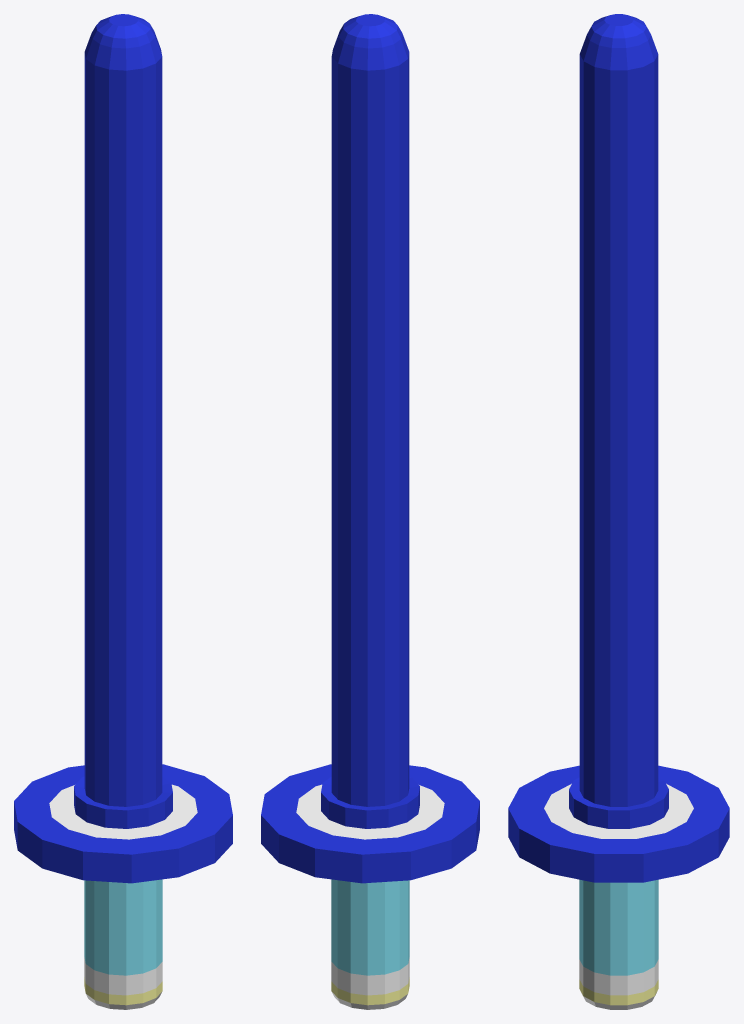
The model's file is wii_sword.glb.
3 views of the same model, side by side, from view 1: azimuth 30°, elevation 25°; view 2: azimuth 150°, elevation 25°; view 3: azimuth 270°, elevation 25° (orthographic).
Parts seen in each view (by area): view 1: Cylinder; view 2: Cylinder; view 3: Cylinder.
Boxes of the visible parts, x1,y1,x2,y2 form: Cylinder: [14, 14, 232, 1009]; Cylinder: [261, 14, 479, 1009]; Cylinder: [508, 14, 729, 1009].
Bounding box in the file's own units: 2.27 × 11.35 × 2.33.
